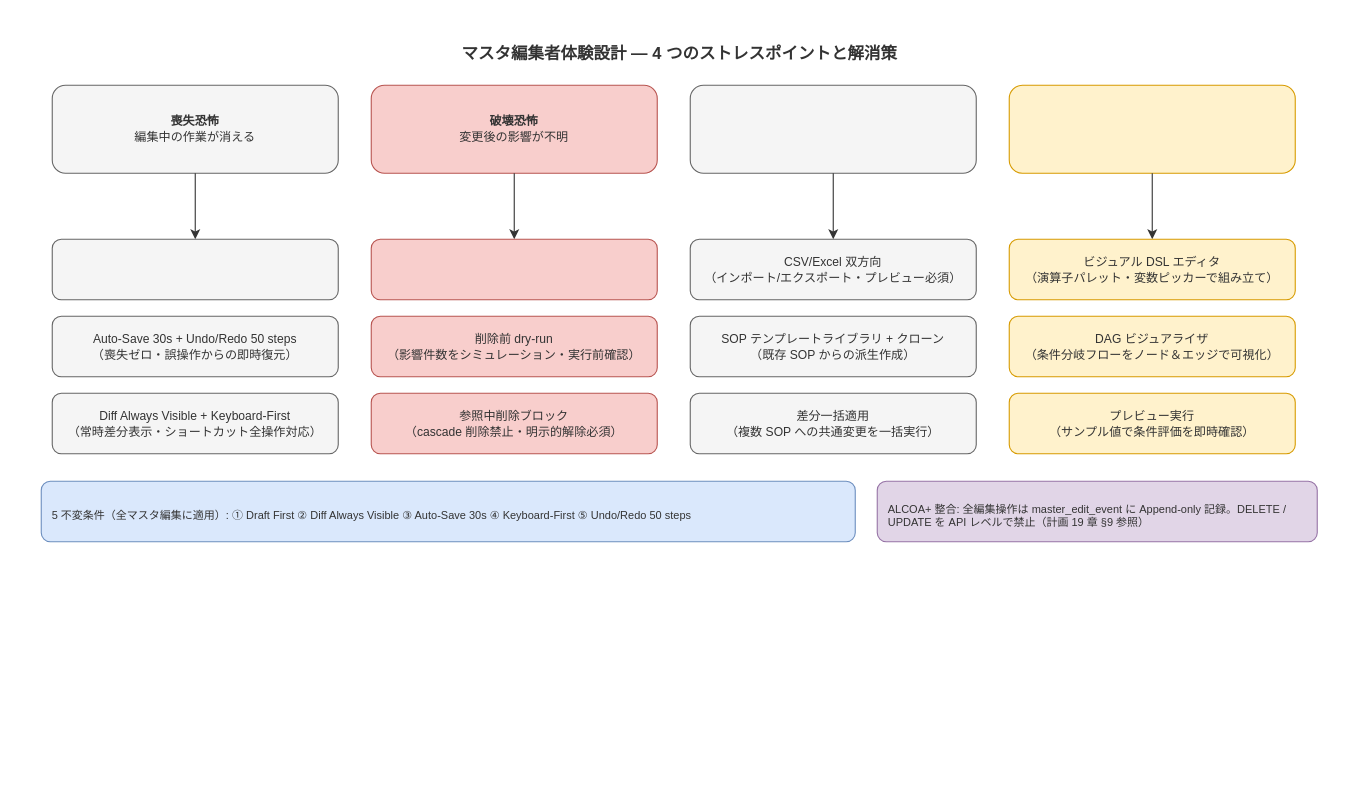
The diagram is 1357 pixels wide and 807 high, and some of its shapes have lost their labels. Here are the shapes that lost their labels. From the top down, the centre of each, then its label:
At [832,128]: "反復疲労 類似 SOP の手作業コピー".
At [1151,128]: "DSL 学習負担 JSON Logic の記述コスト".
At [194,269]: "Draft First （全編集はドラフト保存・公開で有効化）".
At [513,269]: "参照整合性ガード （削除対象の影響範囲を事前一覧表示）".
